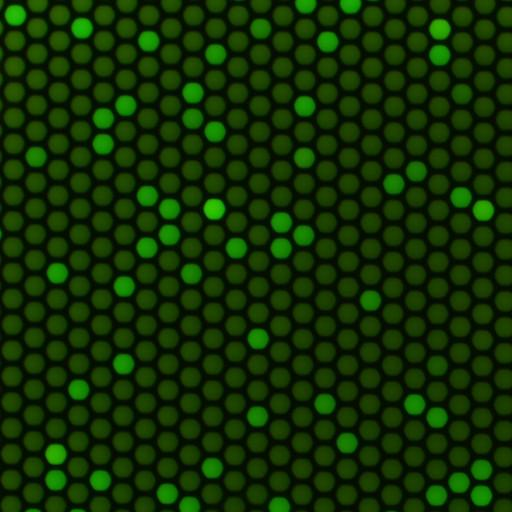Negative: (85, 77, 118, 110), (51, 475, 84, 508), (474, 459, 507, 492), (52, 285, 84, 318), (52, 133, 85, 165), (182, 362, 215, 394), (249, 23, 281, 56), (313, 325, 345, 358), (280, 306, 313, 338), (277, 142, 310, 174), (346, 80, 379, 112), (346, 118, 379, 150), (338, 228, 370, 261), (410, 459, 443, 491), (378, 137, 411, 169), (443, 175, 476, 207), (53, 20, 85, 52), (53, 96, 85, 128), (20, 190, 52, 222), (19, 228, 51, 260), (19, 266, 51, 298), (19, 342, 51, 374), (18, 455, 50, 487), (52, 172, 84, 204), (86, 115, 118, 147), (476, 232, 508, 264), (118, 134, 150, 166), (118, 172, 150, 204), (118, 210, 150, 242), (84, 267, 116, 299), (84, 342, 116, 374), (117, 400, 149, 432), (149, 456, 181, 488), (150, 419, 182, 451), (150, 343, 182, 375), (151, 40, 183, 72), (183, 97, 215, 129), (216, 116, 248, 148), (183, 172, 215, 204), (248, 211, 280, 243), (215, 268, 247, 300), (248, 286, 280, 318), (215, 382, 247, 414), (247, 400, 279, 432), (247, 438, 279, 470), (281, 193, 313, 225), (281, 80, 313, 112), (281, 42, 313, 74), (314, 23, 346, 55), (346, 5, 378, 37), (314, 136, 346, 168), (313, 174, 345, 206), (346, 269, 378, 301), (313, 288, 345, 320), (345, 344, 377, 376), (410, 421, 442, 453), (379, 62, 411, 94), (379, 24, 411, 56), (411, 43, 443, 75), (411, 119, 443, 151), (411, 156, 443, 188), (444, 138, 476, 170), (19, 115, 52, 146), (19, 153, 52, 184), (51, 399, 84, 430), (84, 305, 117, 336), (217, 41, 248, 74), (183, 135, 216, 166), (216, 155, 249, 186), (215, 193, 248, 224), (280, 383, 313, 414), (313, 99, 346, 130), (443, 63, 476, 94), (411, 81, 444, 112), (442, 289, 475, 320), (442, 327, 475, 358), (86, 2, 118, 33), (86, 40, 117, 72), (19, 304, 51, 335), (51, 437, 83, 468), (118, 59, 150, 90), (475, 384, 507, 415), (118, 97, 150, 128), (85, 229, 117, 260), (117, 248, 149, 279), (117, 286, 149, 317), (117, 324, 149, 355), (116, 438, 148, 469), (150, 267, 182, 298), (151, 116, 183, 147), (150, 79, 182, 110), (184, 60, 216, 91), (249, 98, 281, 129), (249, 136, 280, 168), (249, 174, 281, 205), (216, 230, 248, 261), (248, 249, 280, 280), (215, 306, 247, 337), (215, 344, 247, 375), (215, 420, 247, 451), (215, 457, 246, 489), (280, 458, 312, 489), (280, 420, 312, 451), (280, 344, 312, 375), (313, 364, 345, 395), (281, 268, 312, 300), (281, 231, 313, 262), (281, 155, 312, 187), (282, 118, 313, 150), (282, 4, 313, 36), (346, 193, 378, 224), (315, 212, 347, 243), (313, 250, 345, 281), (377, 478, 409, 509), (443, 402, 474, 434), (411, 383, 443, 414), (411, 345, 442, 377), (411, 307, 442, 339), (378, 289, 410, 320), (411, 232, 443, 263), (379, 99, 410, 131), (411, 195, 443, 226), (444, 251, 475, 283), (443, 365, 475, 396), (51, 362, 84, 392), (53, 59, 84, 90), (52, 324, 83, 355), (52, 248, 83, 279), (53, 210, 84, 241), (152, 3, 183, 34), (476, 44, 507, 75), (476, 157, 507, 188), (476, 195, 507, 226), (476, 271, 507, 302), (476, 308, 507, 339), (476, 346, 507, 377), (84, 380, 115, 411), (182, 476, 213, 507), (150, 305, 181, 336), (151, 230, 182, 261), (184, 22, 215, 53), (216, 79, 247, 110), (183, 249, 214, 280), (183, 286, 214, 317), (182, 324, 213, 355), (248, 325, 279, 356), (248, 363, 279, 394), (247, 477, 278, 508), (346, 459, 377, 490), (338, 15, 369, 46), (347, 156, 378, 187), (346, 307, 377, 338), (346, 383, 377, 414), (378, 439, 409, 470), (378, 402, 409, 433), (378, 364, 409, 395), (379, 212, 410, 243), (379, 175, 410, 206), (412, 6, 443, 37), (444, 25, 475, 56), (118, 22, 150, 52), (20, 78, 52, 108), (18, 381, 50, 411), (183, 400, 213, 432), (249, 61, 281, 91), (313, 402, 345, 432), (378, 327, 410, 357), (444, 215, 476, 245), (476, 82, 507, 112), (85, 456, 115, 487), (117, 476, 148, 506), (217, 4, 247, 35), (313, 477, 344, 507), (313, 440, 344, 470), (444, 101, 475, 131), (85, 192, 116, 221), (21, 3, 51, 32), (21, 41, 51, 70), (0, 95, 20, 127), (443, 0, 476, 19), (0, 134, 19, 166), (0, 285, 19, 317), (0, 323, 19, 355), (0, 361, 19, 393), (378, 0, 411, 18), (0, 172, 19, 203), (0, 210, 19, 241), (0, 437, 19, 468), (17, 495, 51, 512), (183, 0, 216, 17), (248, 0, 281, 17), (313, 0, 346, 17), (0, 248, 18, 279), (0, 399, 18, 430), (0, 475, 18, 506), (85, 495, 117, 512), (3, 55, 22, 83), (252, 0, 285, 16), (280, 496, 312, 512), (150, 495, 180, 512), (215, 496, 246, 512), (52, 0, 85, 15), (3, 30, 26, 51), (475, 497, 507, 512), (346, 497, 377, 512), (411, 497, 442, 512)
Positive: (84, 153, 117, 186), (442, 478, 475, 511), (476, 6, 509, 39), (150, 154, 184, 186), (344, 420, 378, 452), (116, 362, 149, 394), (151, 192, 183, 224), (475, 421, 507, 453), (476, 119, 508, 151), (183, 211, 215, 242), (150, 382, 182, 413), (84, 419, 116, 450), (182, 439, 214, 470), (442, 441, 474, 472), (378, 251, 410, 282), (411, 270, 443, 301), (18, 419, 50, 449), (3, 4, 27, 27), (506, 482, 512, 507)
